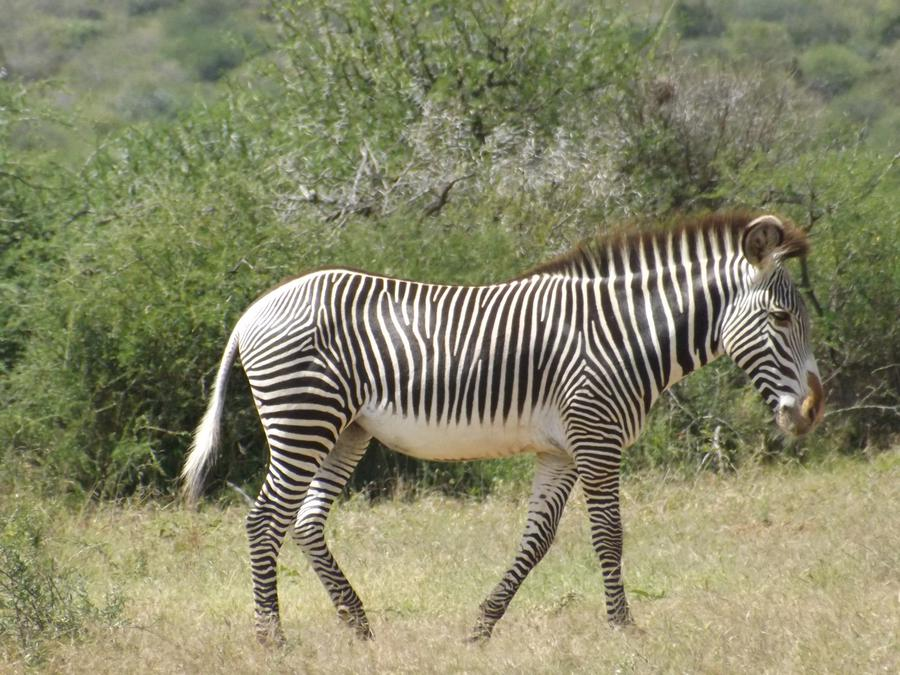zebra_grevys: (216, 241, 637, 464)
